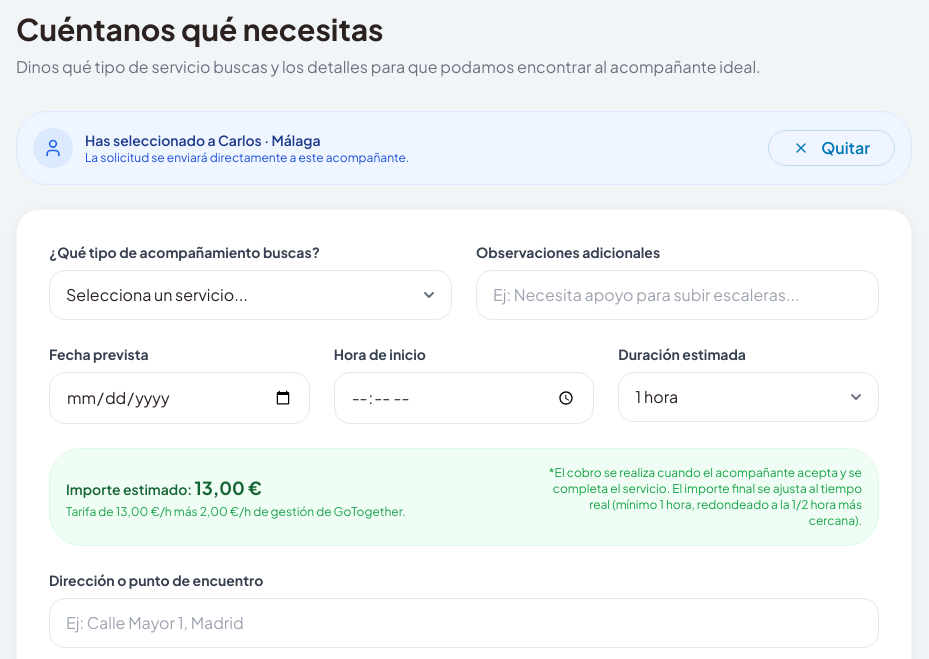
Test: SolicitudPage › warns when the chosen time is outside the companion availability
Type "2026-12-07" into the date field labelled "Fecha prevista" at (179, 398), box left=49, top=372, right=310, bottom=424
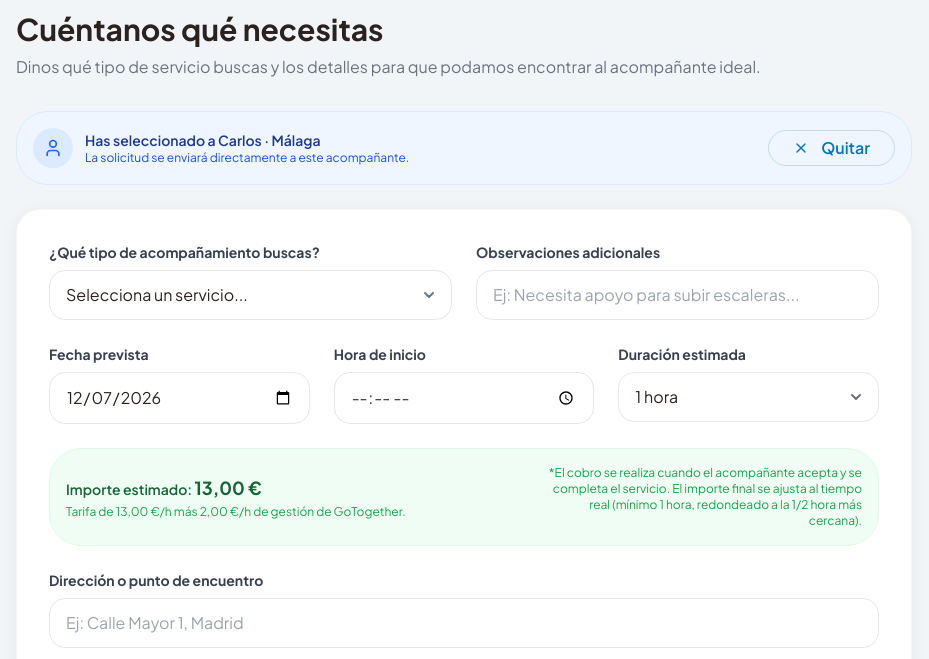
Type "10:00" into the time field labelled "Hora de inicio" at (464, 398), box left=334, top=372, right=594, bottom=424
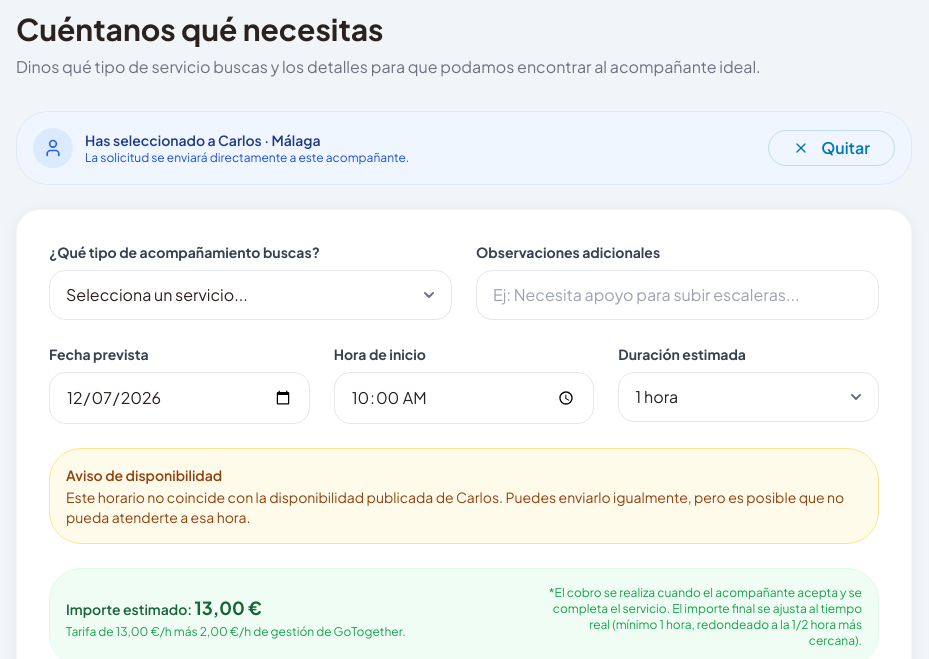
Now the text "Aviso de disponibilidad" is shown, box left=66, top=466, right=222, bottom=484
